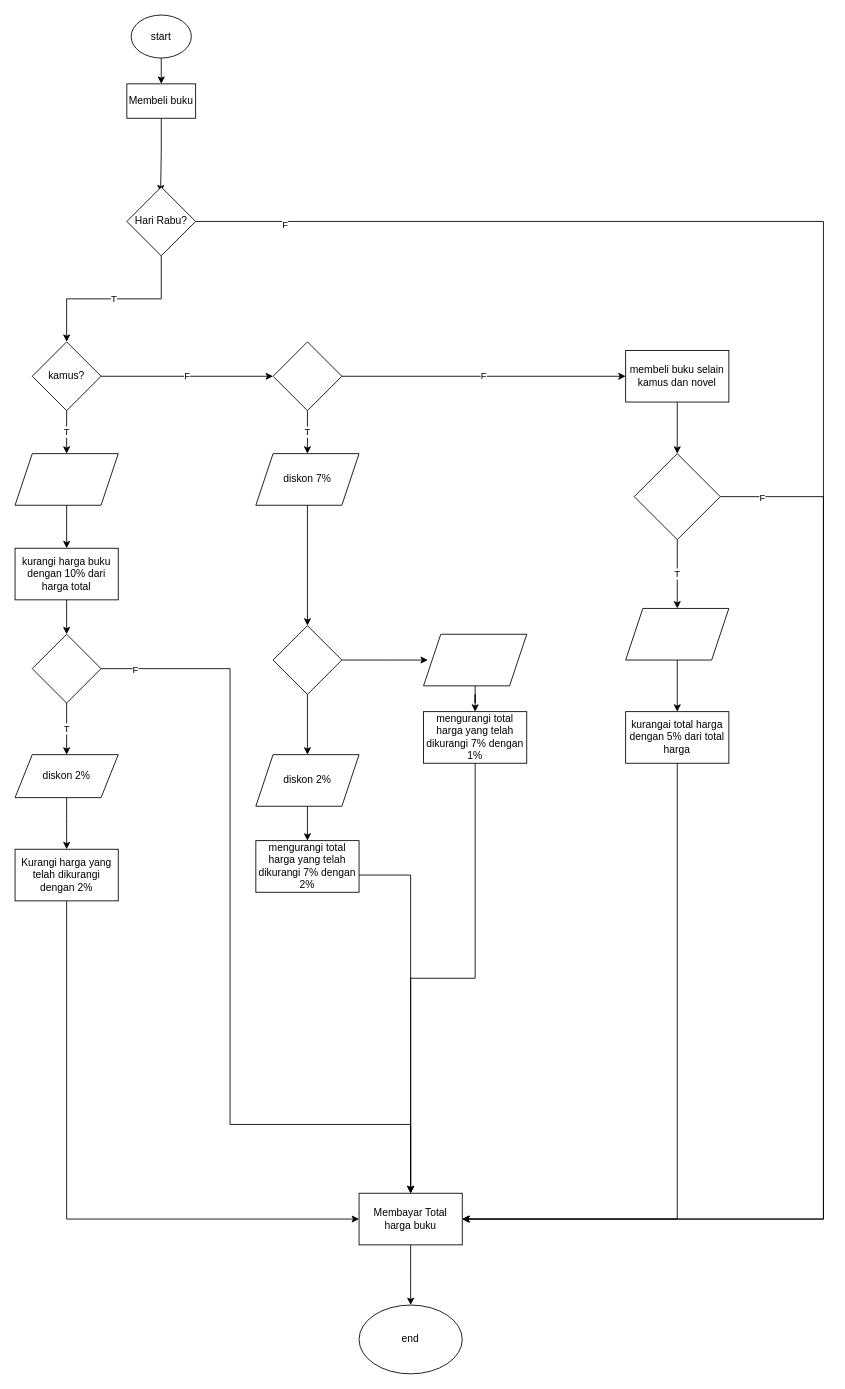
This 845x1389 diagram has some shape labels left out. Here are the shapes that lost their labels. From the top down, the box of each, then its label:
(272, 341, 342, 411): novel?
(14, 453, 118, 505): diskon 10%
(633, 453, 720, 540): beli lebih dari 3?
(625, 608, 729, 660): diskon 5%
(31, 633, 101, 703): lebih dari2?
(272, 625, 342, 694): lebih dari 3?
(423, 633, 527, 686): diskon 1%
